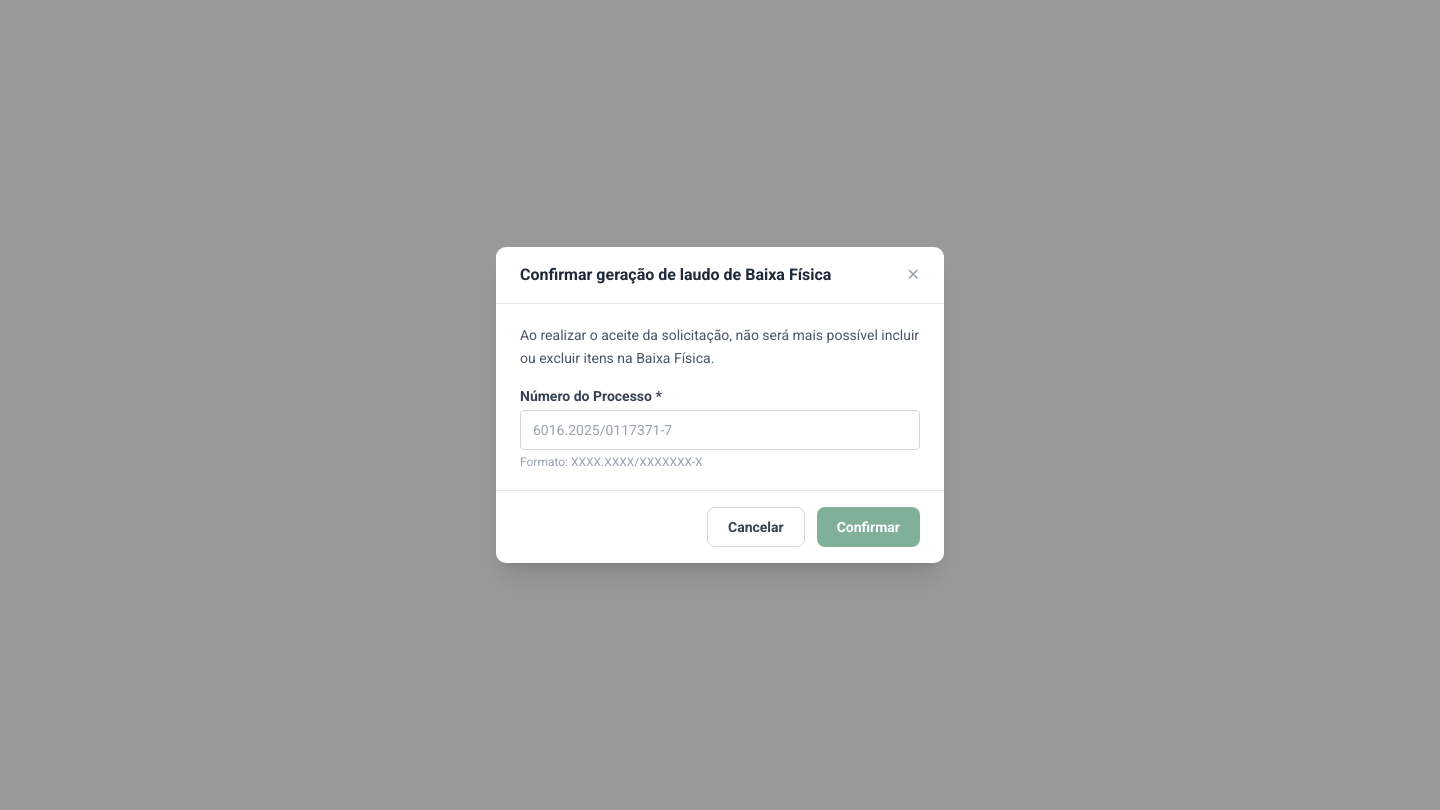
it: ConfirmarAceiteModal › aplica máscara parcial com 8 dígitos
In the field labelled "Número do Processo": (720, 430) [520, 410, 920, 450], type "60162025"
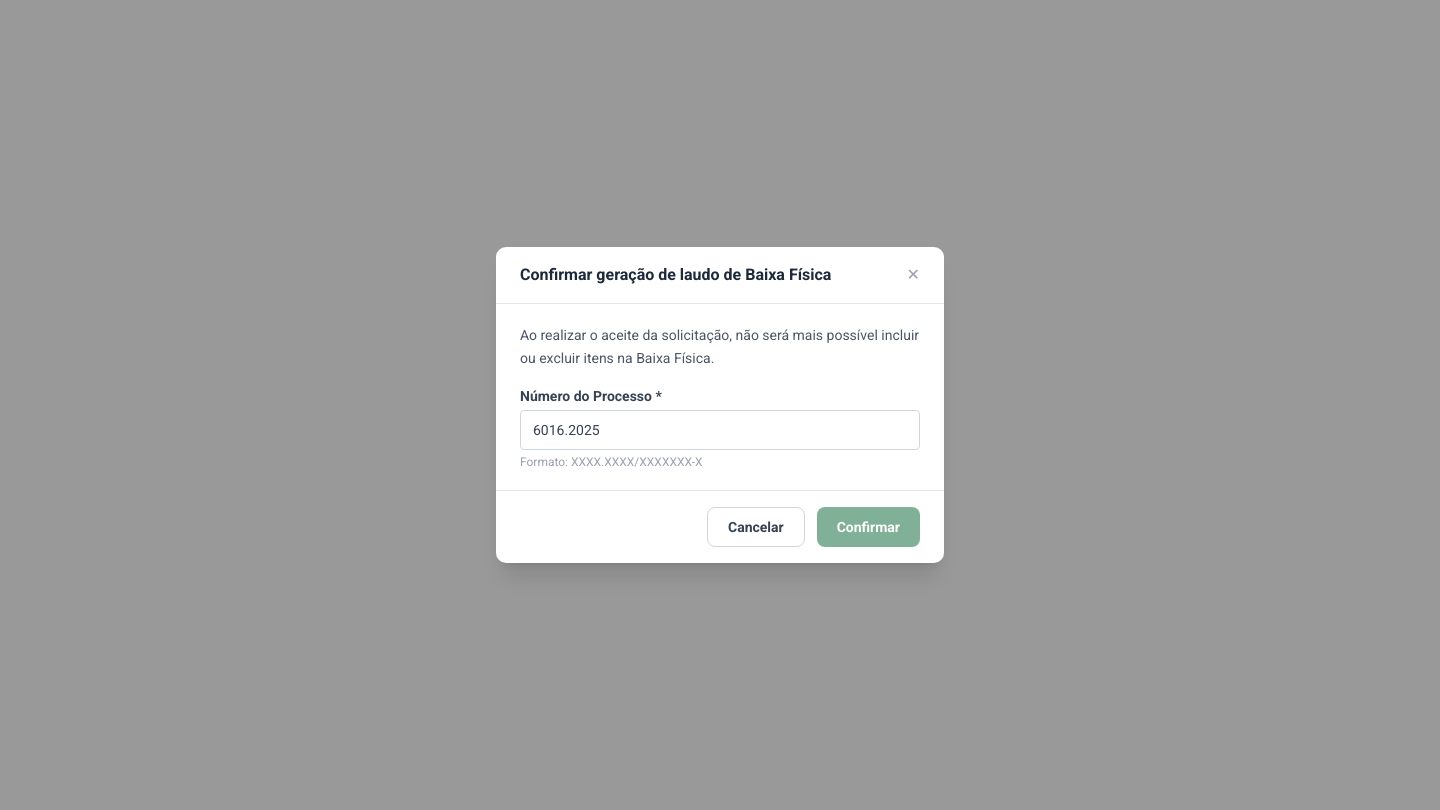
Check: the field labelled "Número do Processo" holds "6016.2025", box [520, 410, 920, 450]
